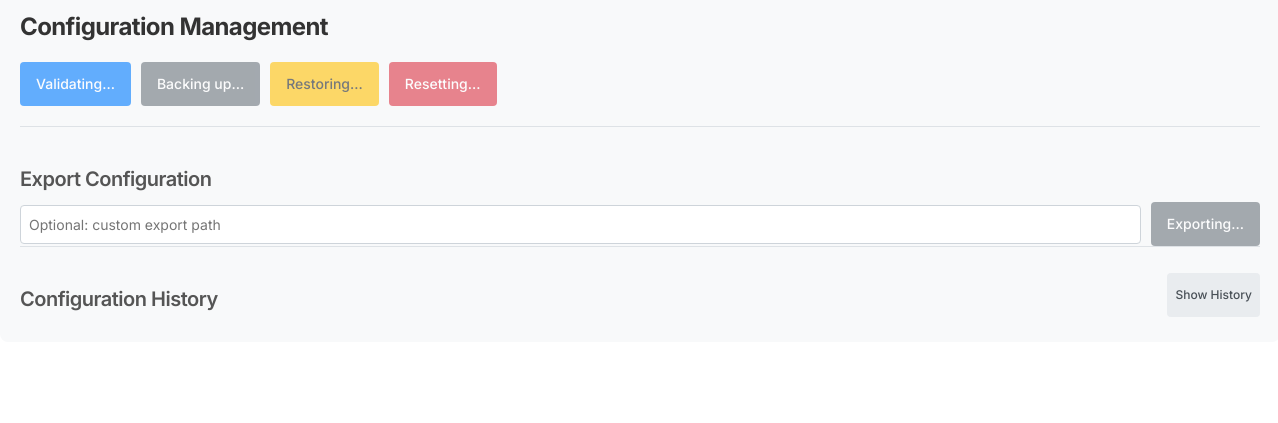
it: ConfigurationManager Component › displays no history message when history is empty
The width and height of the screenshot is (1278, 423).
What coordinates should you click on to do the following:
click the button "Show History"
I would click on:
 (1214, 294)
Its box is [1168, 272, 1260, 316].
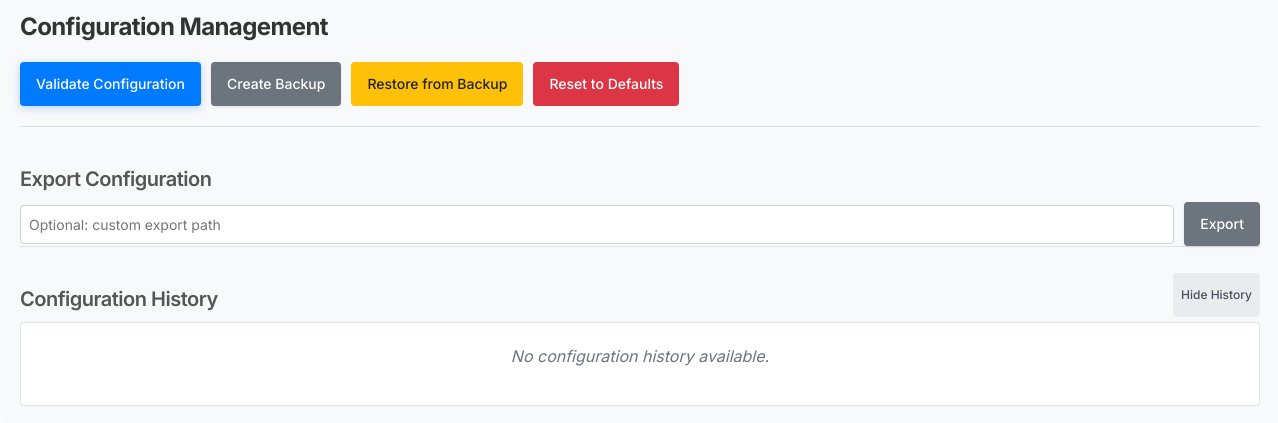
Check: the text "No configuration history available." is shown, box [511, 346, 769, 366]
